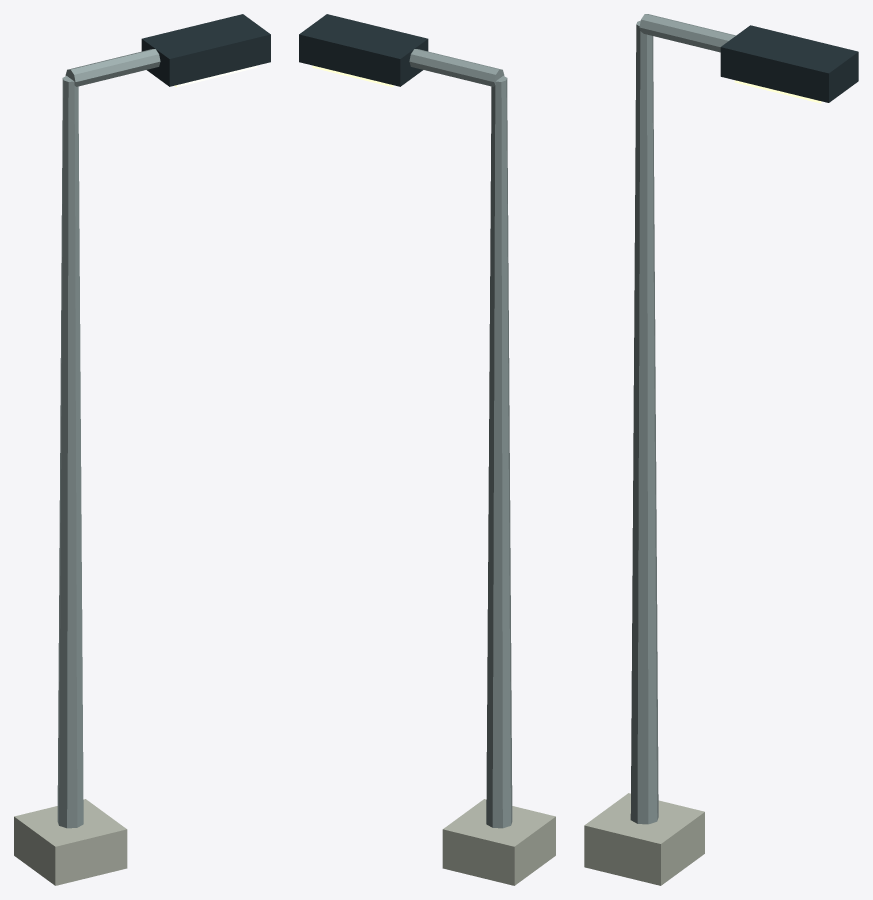
Rendered from street-lamp.glb.
The picture shows the model from 3 angles, left to right: view 1: azimuth 30°, elevation 25°; view 2: azimuth 150°, elevation 25°; view 3: azimuth 330°, elevation 25°; orthographic projection. The views are drawn at different scales.
Parts seen in each view (by area): view 1: StreetLampRoot_steel, StreetLampRoot_curb, StreetLampRoot_dark; view 2: StreetLampRoot_steel, StreetLampRoot_curb, StreetLampRoot_dark; view 3: StreetLampRoot_steel, StreetLampRoot_curb, StreetLampRoot_dark.
Part boxes in pixels (bbox=[...]): StreetLampRoot_steel: bbox=[57, 49, 160, 828]; StreetLampRoot_curb: bbox=[14, 799, 127, 885]; StreetLampRoot_dark: bbox=[141, 14, 270, 86]; StreetLampRoot_steel: bbox=[409, 49, 512, 828]; StreetLampRoot_curb: bbox=[442, 799, 555, 885]; StreetLampRoot_dark: bbox=[299, 14, 428, 86]; StreetLampRoot_steel: bbox=[630, 14, 735, 824]; StreetLampRoot_curb: bbox=[584, 793, 704, 885]; StreetLampRoot_dark: bbox=[720, 25, 858, 102].
Size of the model in its own units: 1.43 by 4.86 by 0.46.
